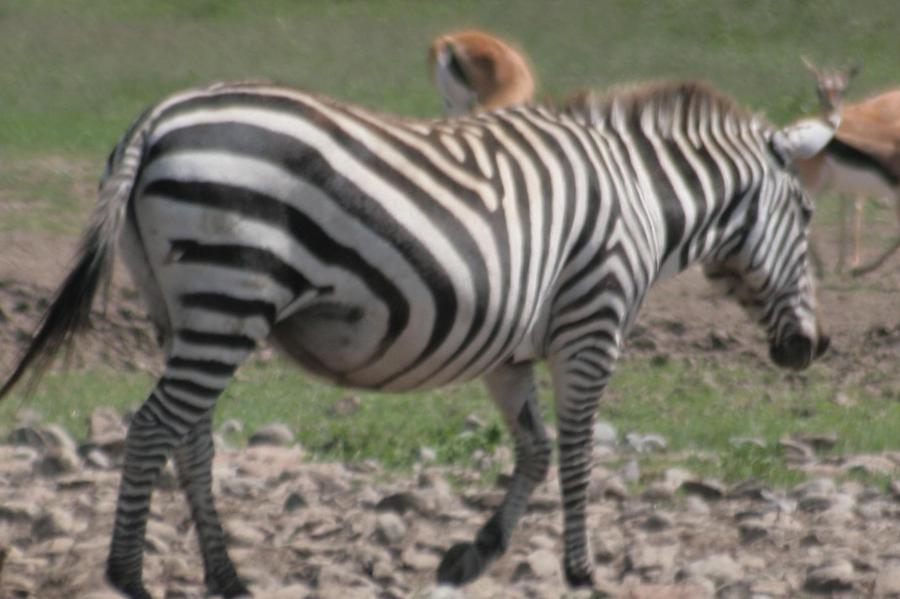zebra_plains: (116, 68, 667, 400)
